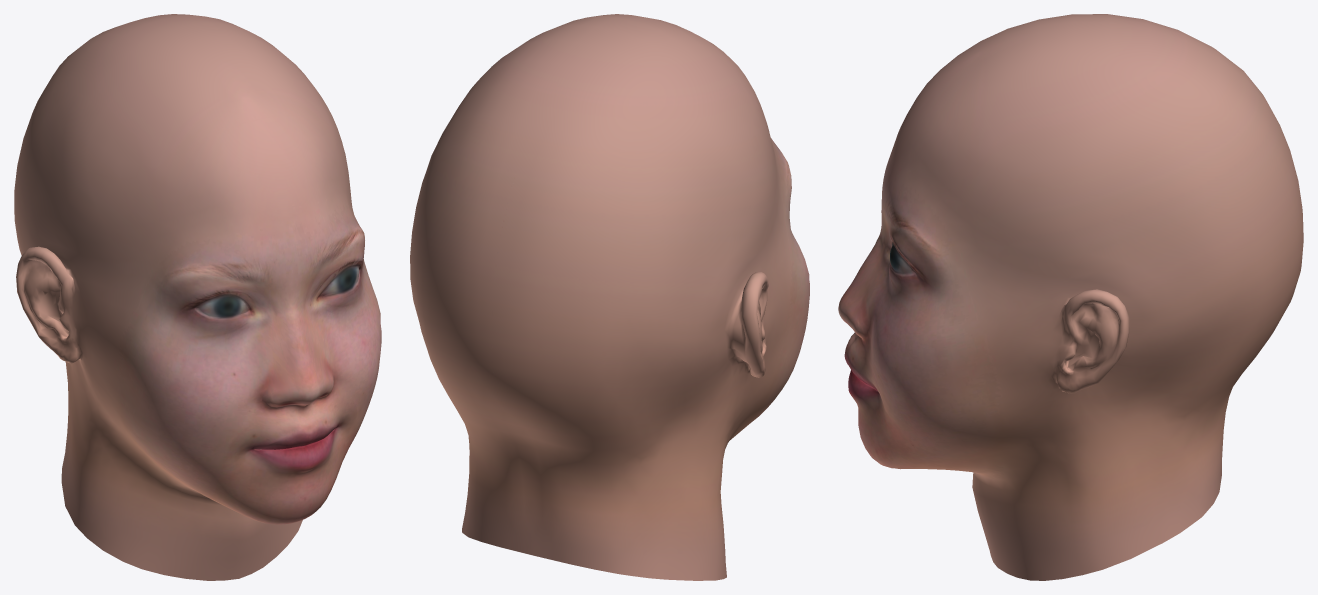
Rendered from head.glb.
3 renders of one model, left to right at view 1: azimuth 30°, elevation 25°; view 2: azimuth 150°, elevation 25°; view 3: azimuth 270°, elevation 25°, orthographic. The views are drawn at different scales.
Visible parts, largest first — view 1: HeadHires; view 2: HeadHires; view 3: HeadHires.
Boxes of the visible parts, <box> form: HeadHires: <box>14,14,381,580</box>; HeadHires: <box>410,14,809,580</box>; HeadHires: <box>838,14,1303,580</box>.
Size of the model in its own units: 0.185 by 0.2835 by 0.2266.
2 materials, 2 textured.
